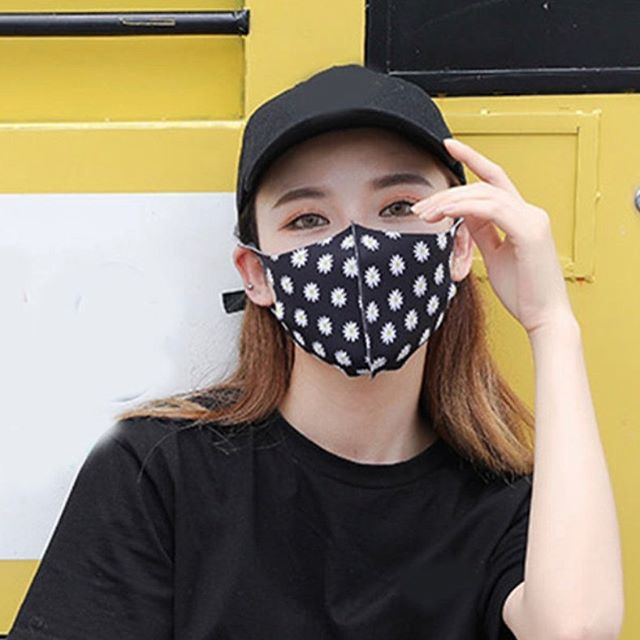homemade: (243, 241, 459, 375)
